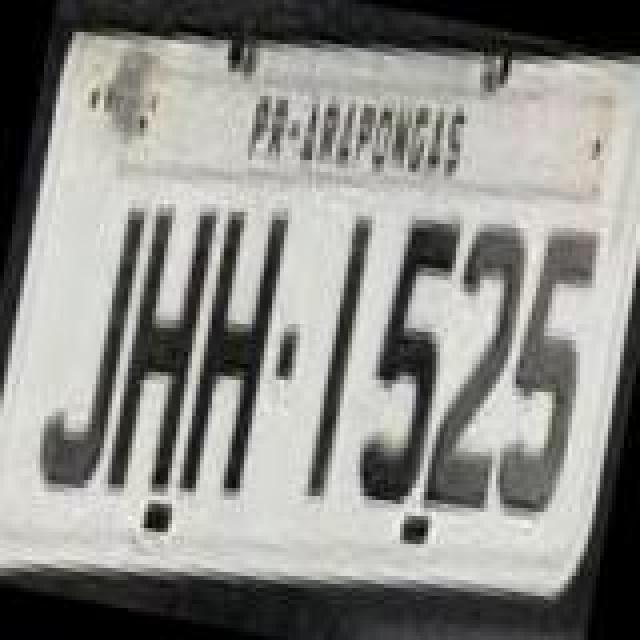1: (298, 204, 382, 508)
2: (418, 210, 542, 518)
5: (346, 202, 470, 518), (486, 214, 610, 530)
H: (168, 192, 296, 512), (98, 186, 222, 502)
J: (22, 186, 154, 510)
